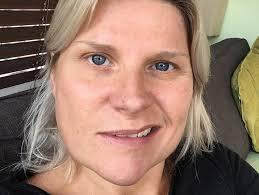strokeEyeWeak: (72, 37, 189, 85)
strokeMouthMid: (91, 119, 168, 147)
